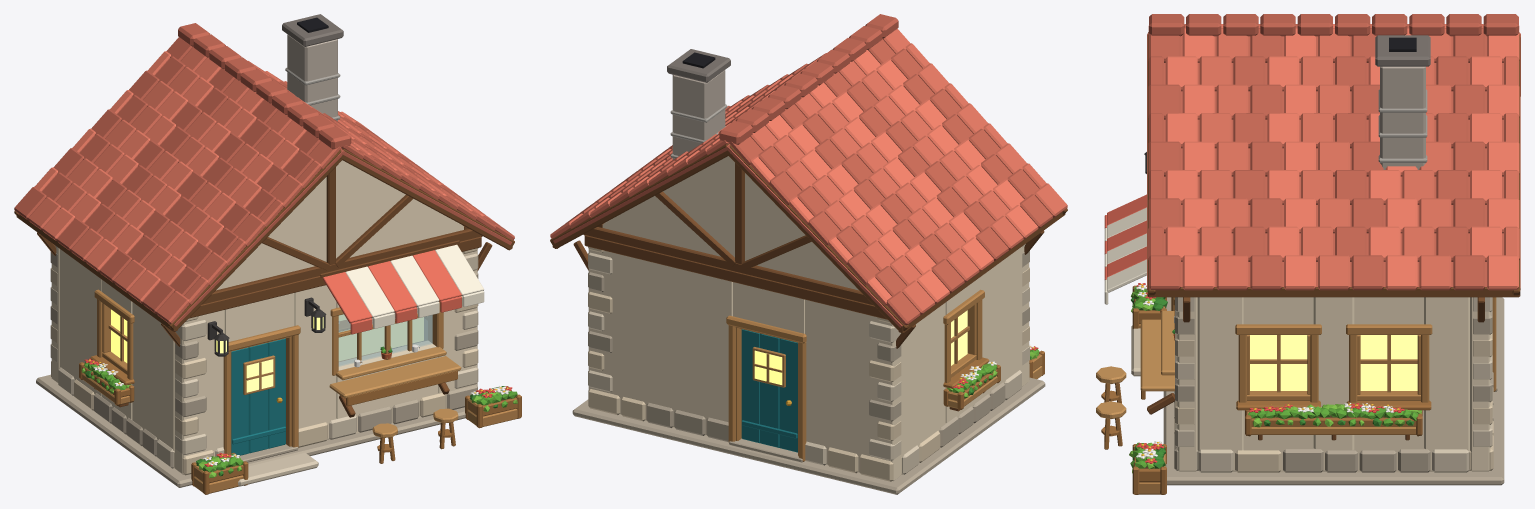
The model's file is cafe_exterior.glb.
3 renders of one model, left to right at view 1: azimuth 30°, elevation 25°; view 2: azimuth 150°, elevation 25°; view 3: azimuth 270°, elevation 25°, orthographic. The views are drawn at different scales.
Parts seen in each view (by area): view 1: cafe_exterior_roof, cafe_exterior, part_door_leaf; view 2: cafe_exterior_roof, cafe_exterior, part_door_leaf_back; view 3: cafe_exterior_roof, cafe_exterior.
Part boxes in pixels (box(x1,y1,x2,y2)): cafe_exterior_roof: box(14, 14, 514, 331); cafe_exterior: box(36, 232, 521, 494); part_door_leaf: box(231, 338, 285, 455); cafe_exterior_roof: box(550, 14, 1067, 333); cafe_exterior: box(572, 230, 1045, 494); part_door_leaf_back: box(741, 329, 797, 452); cafe_exterior_roof: box(1147, 14, 1520, 297); cafe_exterior: box(1096, 152, 1504, 494).
Bounding box in the file's own units: 5.15 × 4.76 × 4.62.
